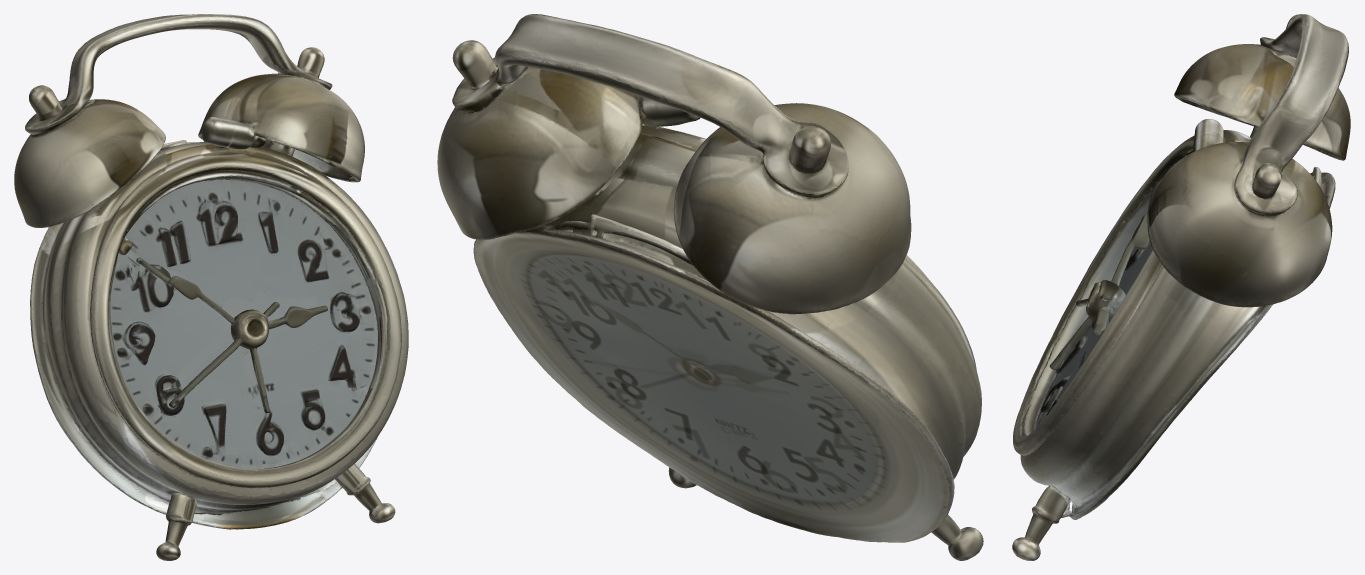
The model's file is source.glb.
3 renders of one model, left to right at view 1: azimuth 30°, elevation 25°; view 2: azimuth 150°, elevation 25°; view 3: azimuth 270°, elevation 25°, orthographic. The views are drawn at different scales.
Visible parts, largest first — view 1: geometry_0; view 2: geometry_0; view 3: geometry_0.
Part boxes in pixels (x1,y1,x2,y2): geometry_0: (14, 14, 408, 560); geometry_0: (437, 14, 983, 560); geometry_0: (1012, 14, 1350, 560).
Size of the model in its own units: 0.1282 by 0.16 by 0.1046.
Materials: 1 (1 with a texture image).
